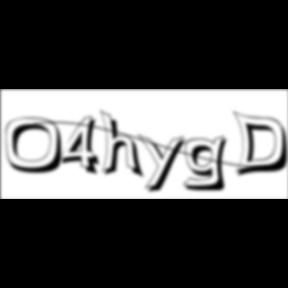4: (60, 115, 106, 179)
O: (6, 117, 70, 176)
g: (183, 134, 235, 194)
h: (101, 108, 148, 182)
y: (138, 132, 192, 196)
